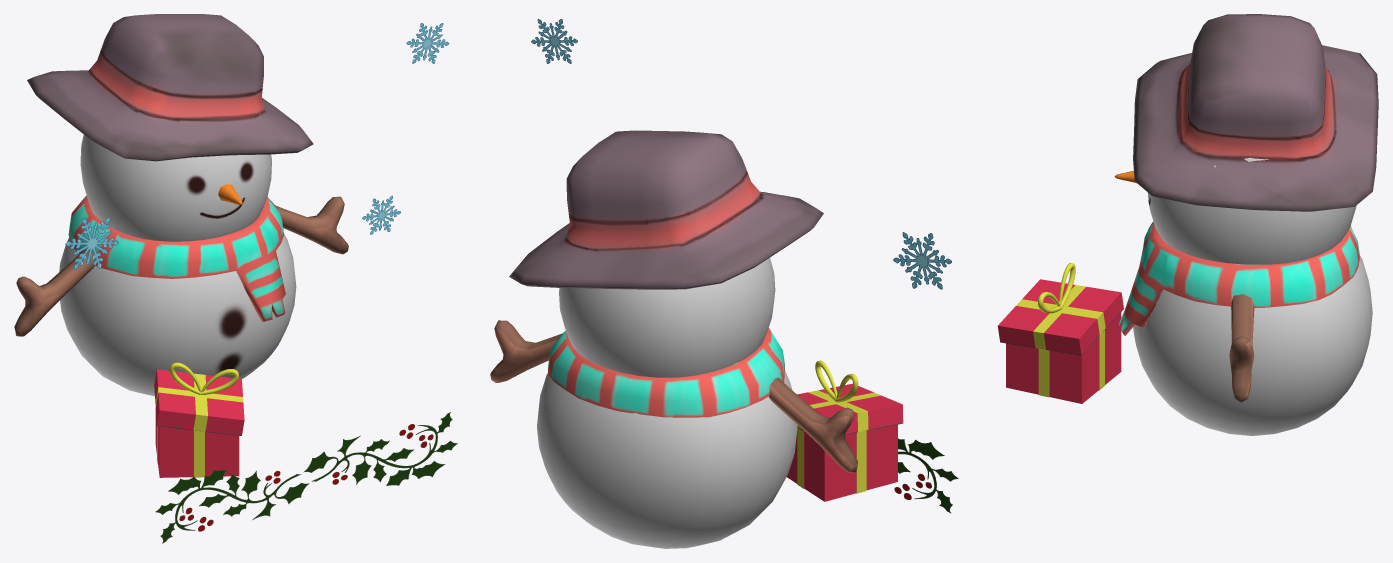
Rendered from bonecoNeve copy.glb.
3 renders of one model, left to right at view 1: azimuth 30°, elevation 25°; view 2: azimuth 150°, elevation 25°; view 3: azimuth 270°, elevation 25°, orthographic. The views are drawn at different scales.
Parts seen in each view (by area): view 1: chapeu.001, corpo, cabeca, chale.001, ramo, Cube.001, Cube, bracoD, bracoL, estrela3.001, estrela3.003, estrela3.002; view 2: chapeu.001, corpo, cabeca, chale.001, Cube, Cube.001, bracoD, bracoL, estrela3.001, ramo, estrela3.003; view 3: chapeu.001, corpo, chale.001, cabeca, Cube.001, Cube, bracoL.
Part boxes in pixels (x1,y1,x2,y2): chapeu.001: (27,14,313,161); corpo: (59,212,296,396); cabeca: (80,134,271,241); chale.001: (68,195,285,321); ramo: (155,412,457,543); Cube.001: (154,362,244,435); Cube: (155,409,239,477); bracoD: (14,249,94,336); bracoL: (275,196,348,254); estrela3.001: (65,217,118,269); estrela3.003: (406,23,449,63); estrela3.002: (362,195,400,234); chapeu.001: (509,130,823,289); corpo: (537,371,797,548); cabeca: (559,258,775,377); chale.001: (548,327,784,417); Cube: (787,424,897,501); Cube.001: (797,360,903,434); bracoD: (768,377,857,472); bracoL: (490,320,562,382); estrela3.001: (893,232,951,289); ramo: (894,438,958,513); estrela3.003: (531,19,577,63); chapeu.001: (1133,14,1378,211); corpo: (1133,255,1372,435); chale.001: (1118,221,1359,335); cabeca: (1147,157,1356,264); Cube.001: (997,263,1123,355); Cube: (1006,312,1121,403); bracoL: (1229,294,1254,402).
Bounding box in the file's own units: 2.29 × 2.31 × 1.8.
7 materials, 4 textured.
